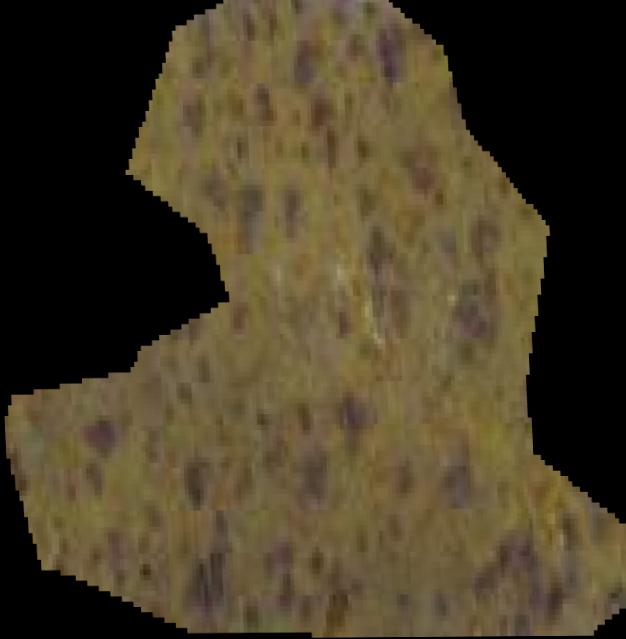Pitting Corrosion: (1, 0, 626, 638)
